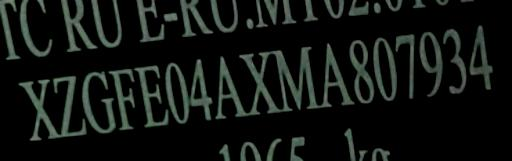letter: (272, 45, 320, 114), (236, 51, 280, 116), (133, 63, 171, 130), (319, 40, 353, 113), (158, 59, 192, 128), (80, 69, 116, 134), (50, 77, 88, 136), (24, 77, 58, 140), (469, 22, 499, 91), (369, 34, 399, 103), (347, 37, 377, 104), (214, 53, 244, 120), (418, 27, 444, 98), (108, 67, 136, 132), (442, 25, 468, 94), (186, 59, 214, 122), (395, 32, 417, 101)
